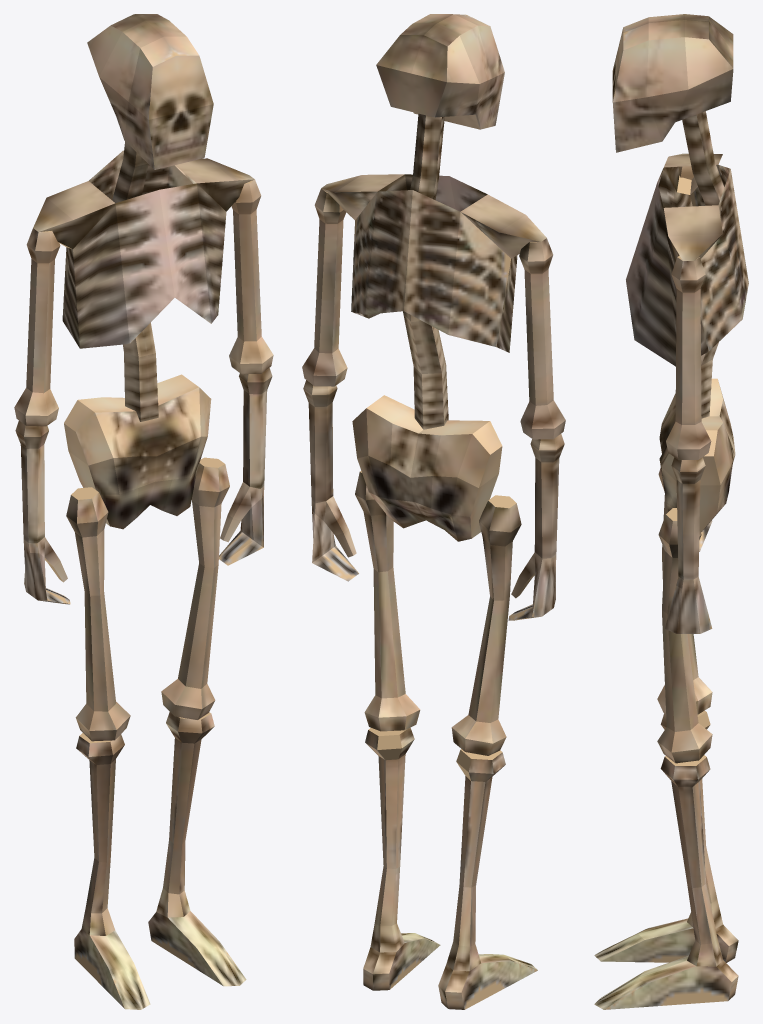
The model's file is skeleton.fbx.
3 views of the same model, side by side, from view 1: azimuth 30°, elevation 25°; view 2: azimuth 150°, elevation 25°; view 3: azimuth 270°, elevation 25° (orthographic).
Parts seen in each view (by area): view 1: Cube; view 2: Cube; view 3: Cube.
Part boxes in pixels (x1,y1,x2,y2): Cube: [14, 14, 273, 1009]; Cube: [302, 14, 565, 1009]; Cube: [594, 14, 748, 1009].
Bounding box in the file's own units: 108 × 391 × 57.16.
